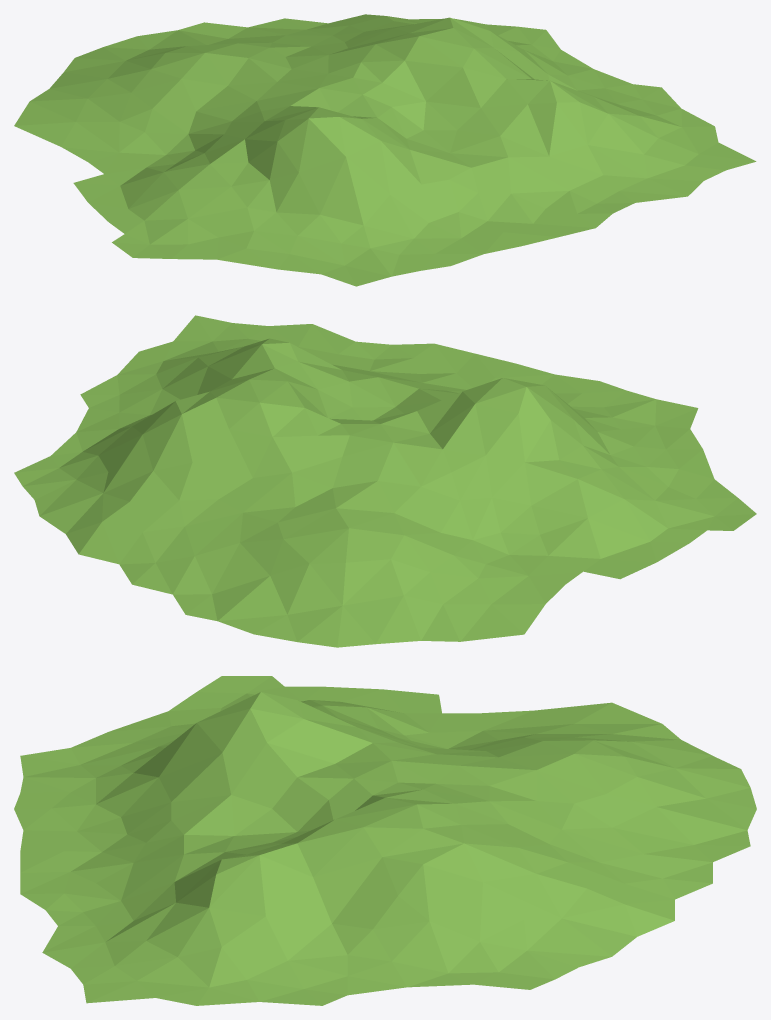
Rendered from MT_Mountain_M_a_08.fbx.
3 views of the same model, one above another, from view 1: azimuth 30°, elevation 25°; view 2: azimuth 150°, elevation 25°; view 3: azimuth 270°, elevation 25° (orthographic). The views are drawn at different scales.
Parts seen in each view (by area): view 1: MT_Mountain_M_a_08; view 2: MT_Mountain_M_a_08; view 3: MT_Mountain_M_a_08.
Part boxes in pixels (left/top/right/bottom): MT_Mountain_M_a_08: left=14, top=14, right=756, bottom=286; MT_Mountain_M_a_08: left=14, top=315, right=756, bottom=647; MT_Mountain_M_a_08: left=14, top=676, right=756, bottom=1005.
Size of the model in its own units: 4844 by 666 by 4609.
